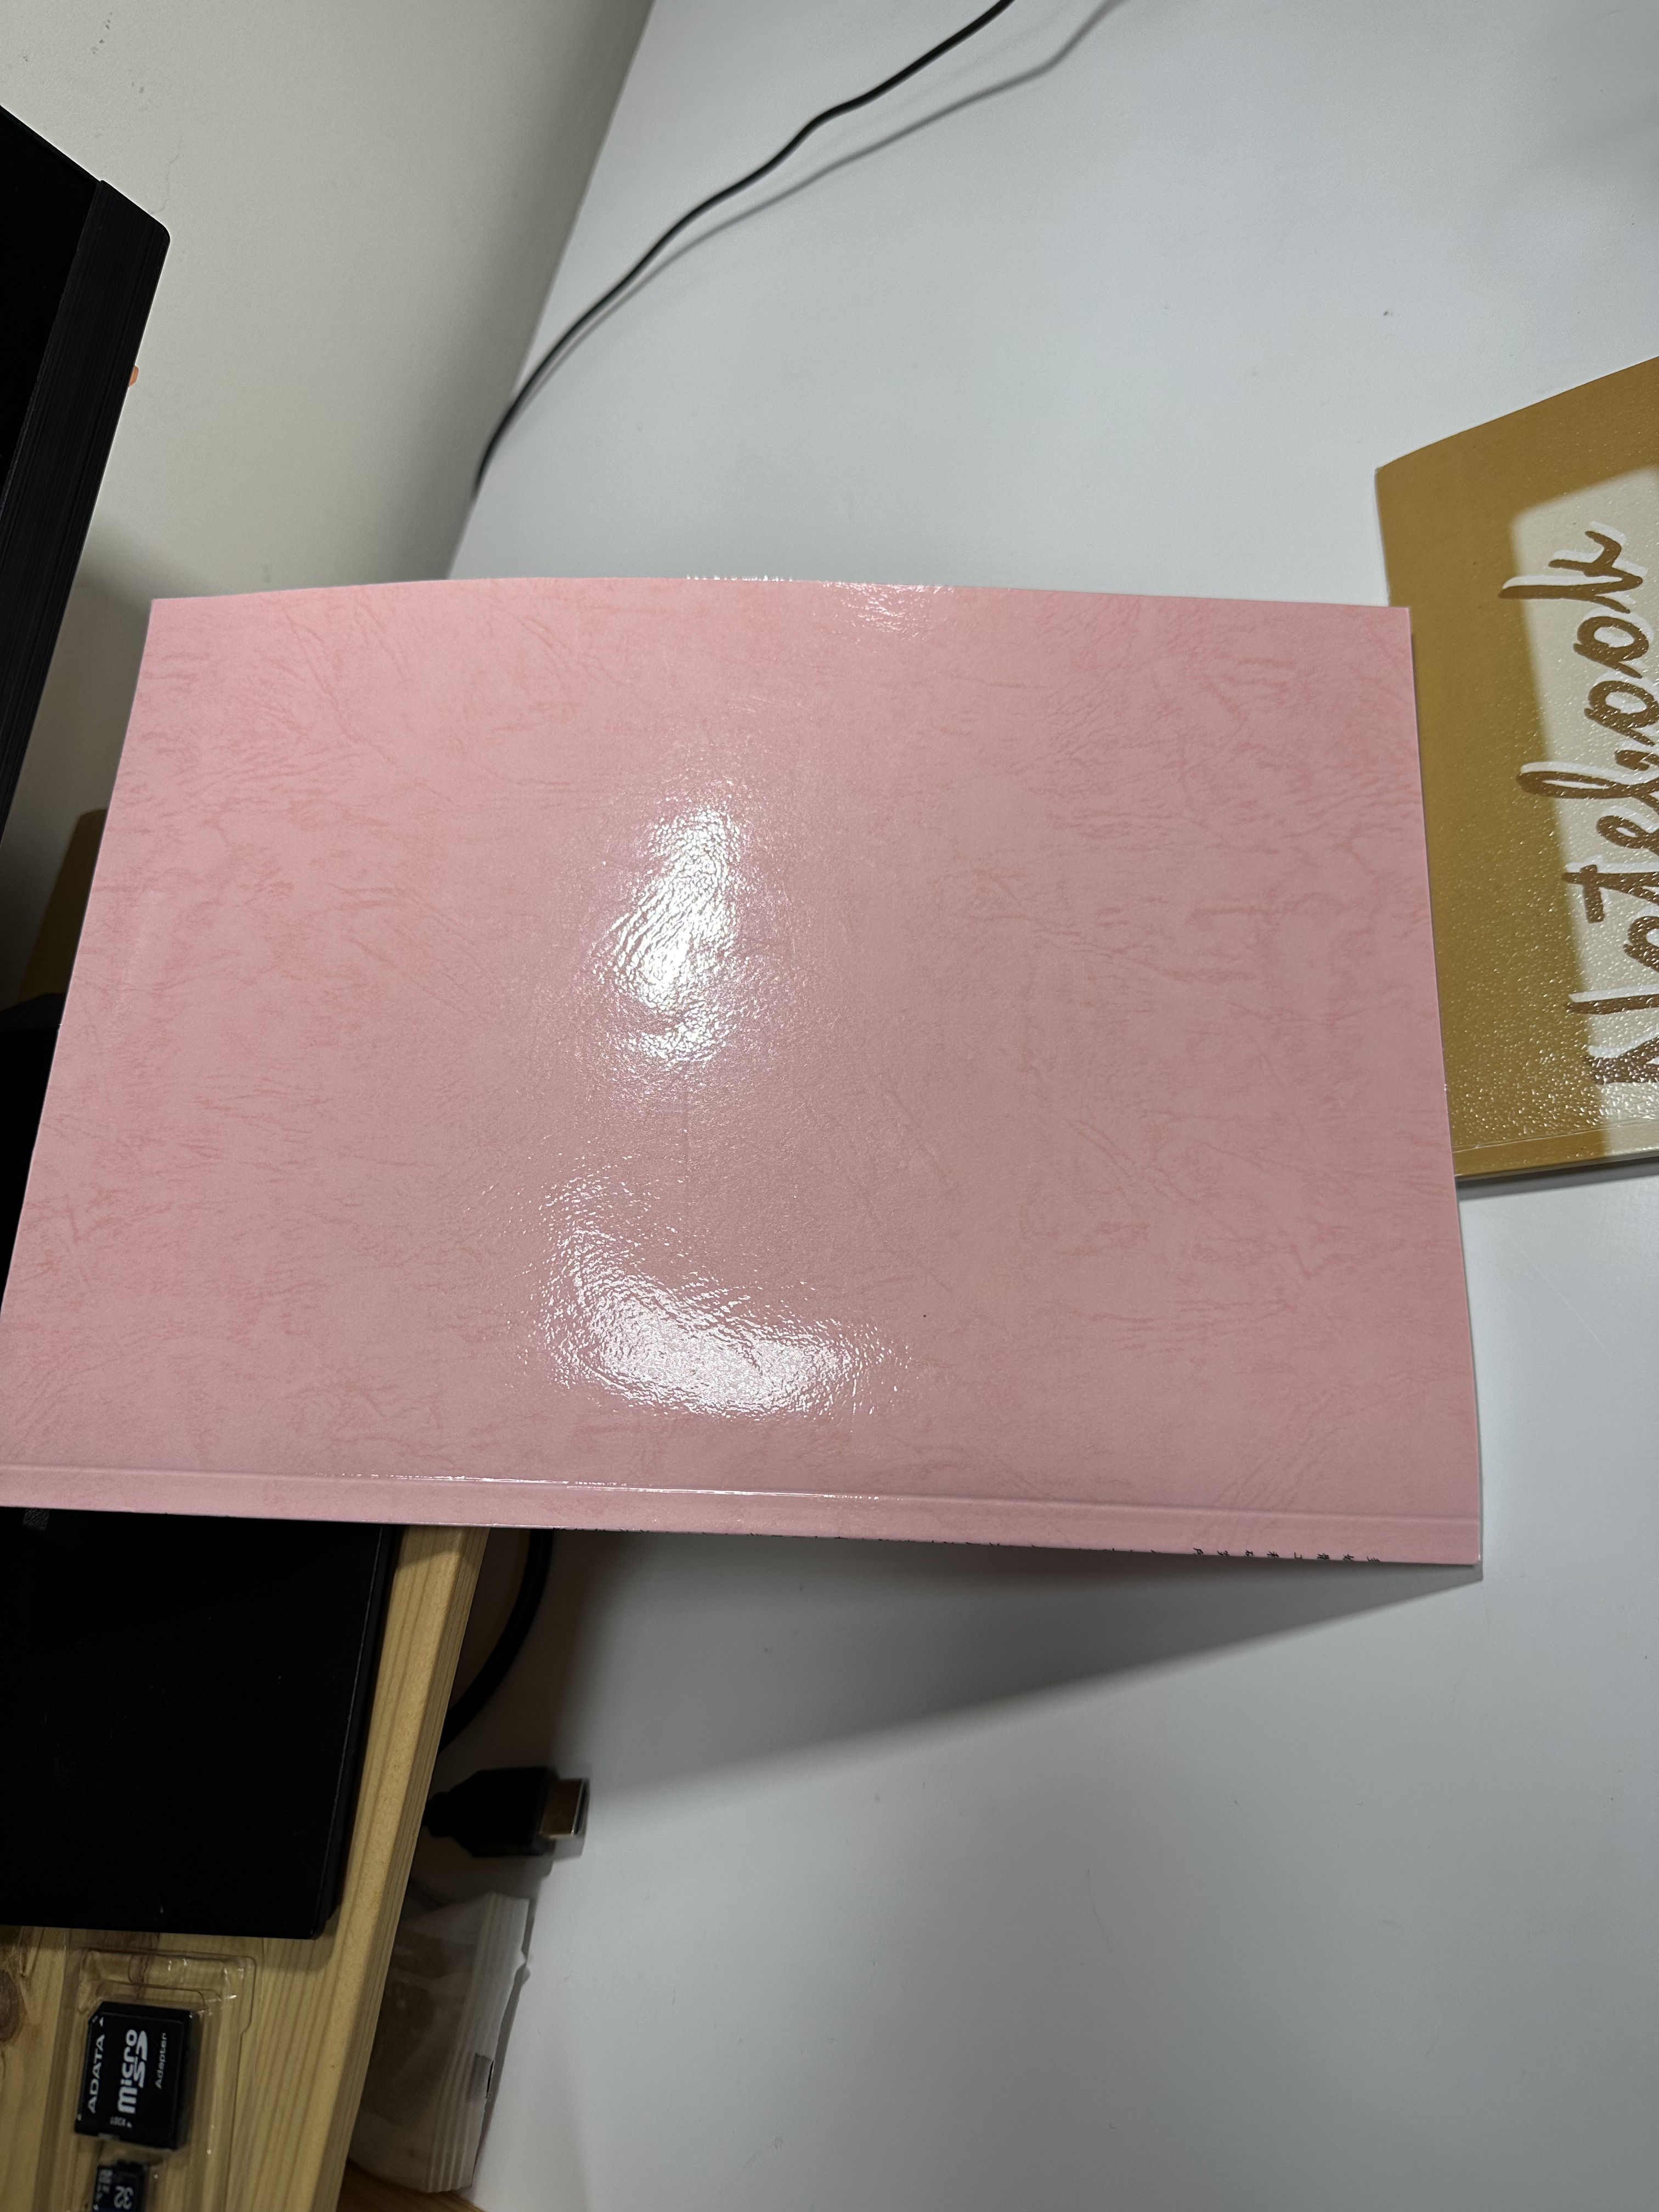book: (2, 577, 1485, 1576)
